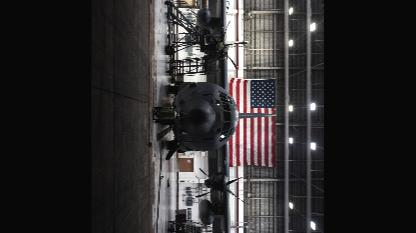Be200: (159, 0, 278, 232)
